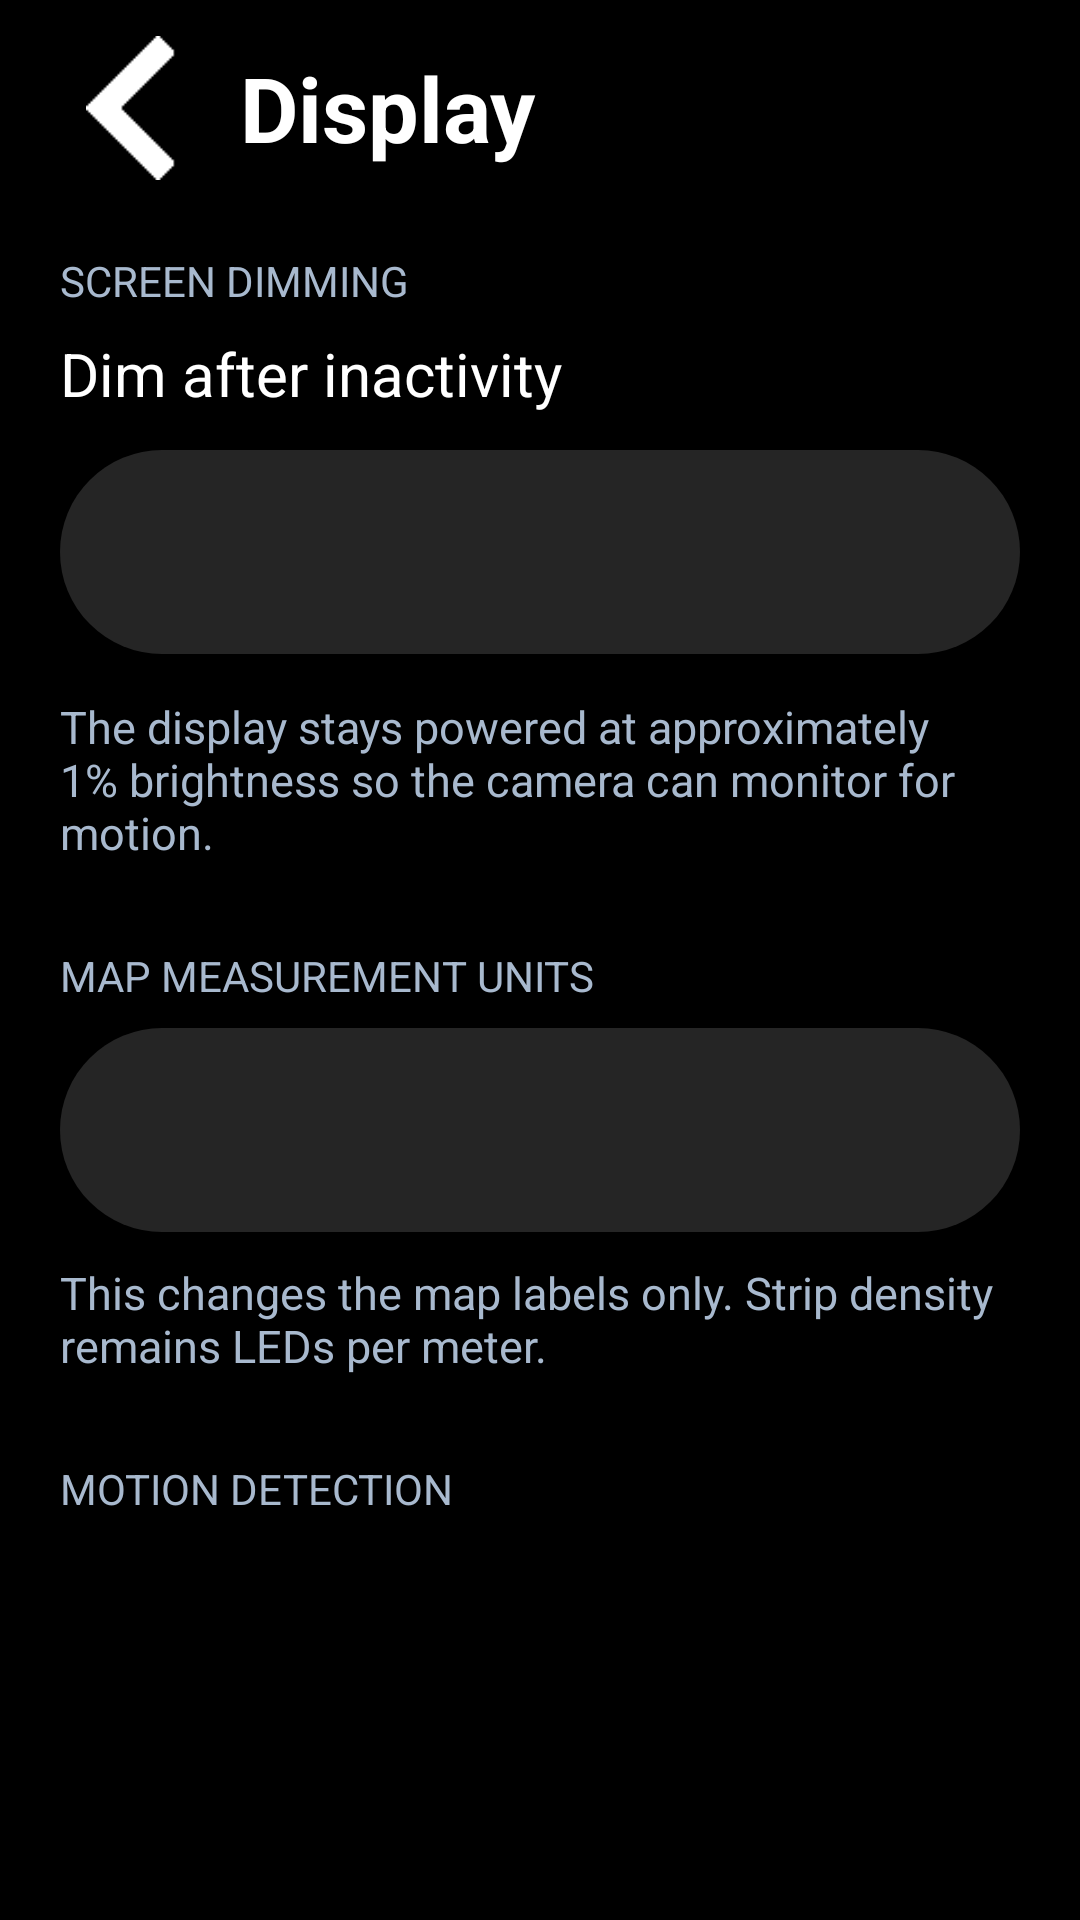

Screen size 1080px x 1920px. Icon name, then its box in pixels as (x1, y1, x2, y2):
Back to Settings: (86, 36, 175, 180)
